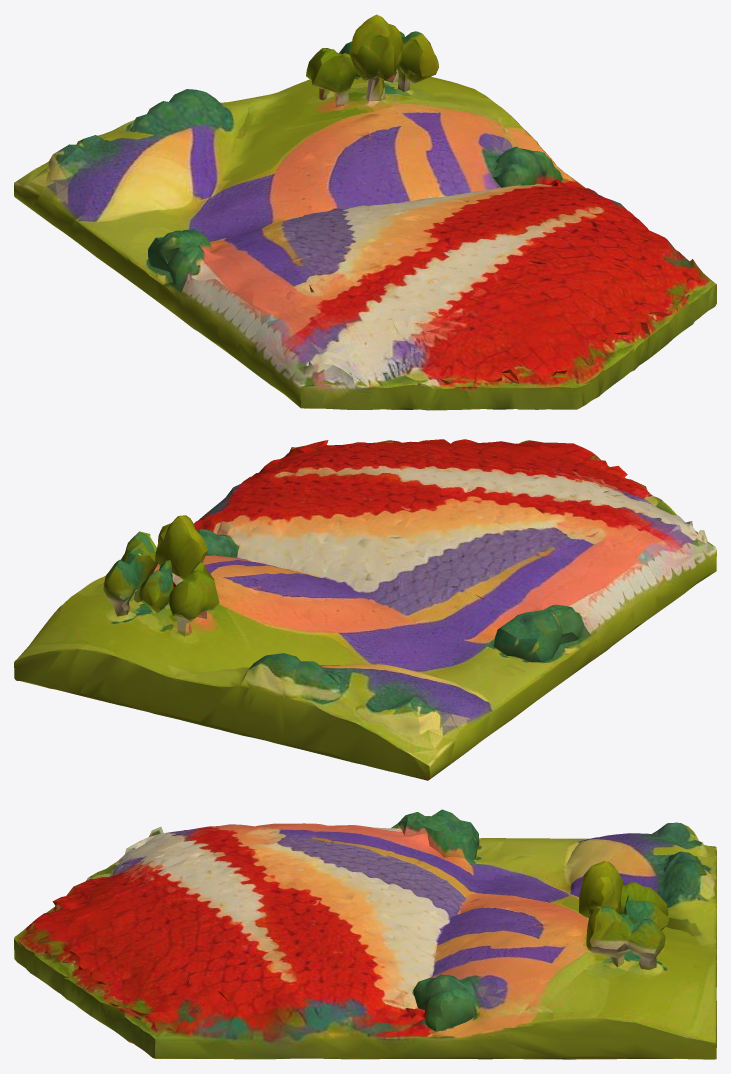
The model's file is shikisai-no-oka.glb.
3 renders of one model, top to bottom at view 1: azimuth 30°, elevation 25°; view 2: azimuth 150°, elevation 25°; view 3: azimuth 270°, elevation 25°, orthographic. The views are drawn at different scales.
Visible parts, largest first — view 1: logan-textured.obj; view 2: logan-textured.obj; view 3: logan-textured.obj.
Boxes of the visible parts, x1,y1,x2,y2 form: logan-textured.obj: (14,14,716,410); logan-textured.obj: (14,439,716,780); logan-textured.obj: (14,809,716,1059).
Bounding box in the file's own units: 0.6725 × 0.2306 × 1.
1 material, 1 textured.
